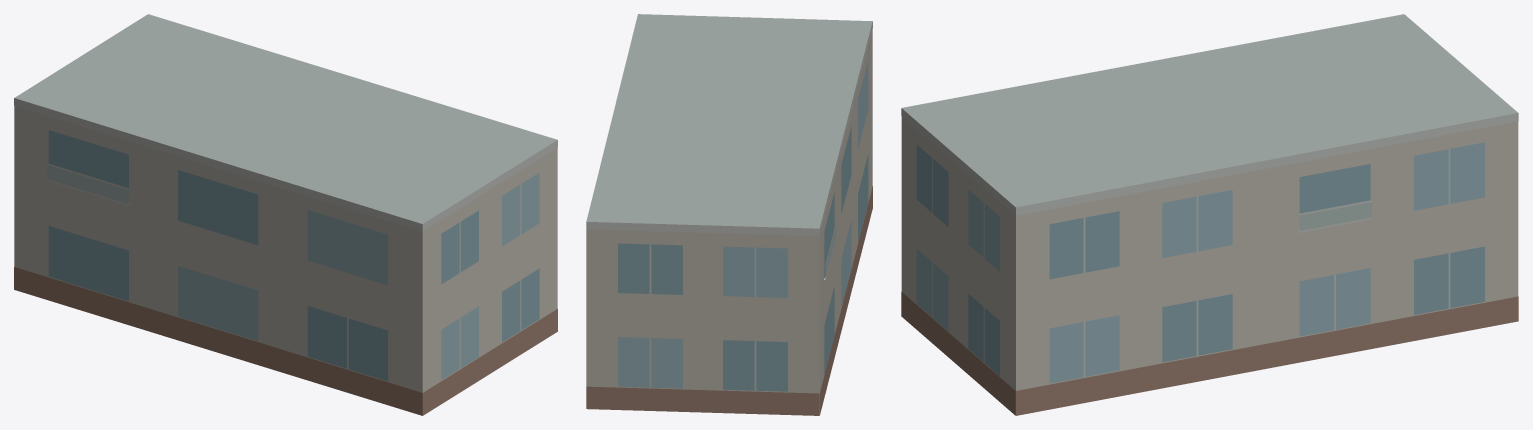
Rendered from survey-upis-32736622.glb.
The picture shows the model from 3 angles, left to right: view 1: azimuth 30°, elevation 25°; view 2: azimuth 150°, elevation 25°; view 3: azimuth 270°, elevation 25°; orthographic projection. The views are drawn at different scales.
Visible parts, largest first — view 1: survey-upis-32736622.tmp; view 2: survey-upis-32736622.tmp; view 3: survey-upis-32736622.tmp.
Boxes of the visible parts, x1,y1,x2,y2 form: survey-upis-32736622.tmp: (14,14,557,415); survey-upis-32736622.tmp: (586,14,872,415); survey-upis-32736622.tmp: (901,14,1518,415).
Size of the model in its own units: 12.15 by 6.1 by 16.38.
